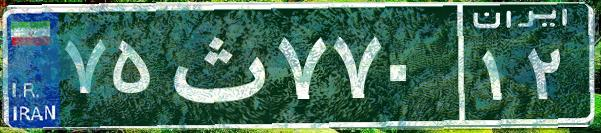0: (385, 28, 445, 110)
1: (475, 38, 525, 113)
2: (525, 38, 570, 115)
5: (110, 28, 158, 105)
7: (273, 28, 330, 110), (330, 28, 385, 110), (57, 26, 110, 107)
ث: (158, 15, 273, 115)
